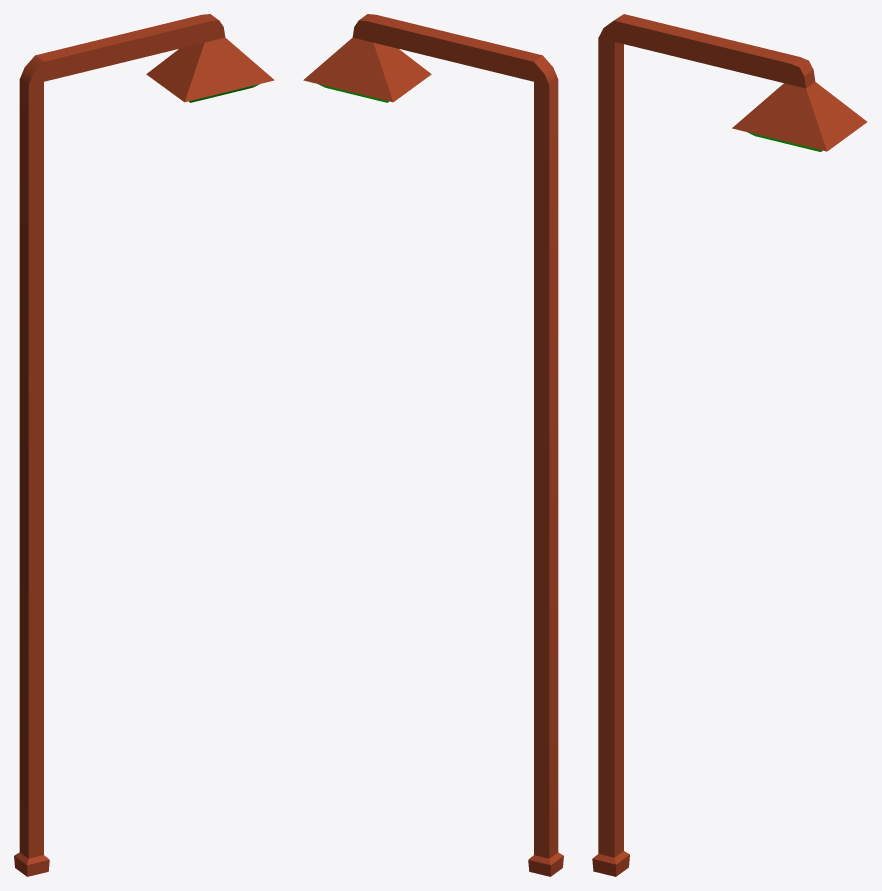
File: Lightpost.fbx
The picture shows the model from 3 angles, left to right: view 1: azimuth 30°, elevation 25°; view 2: azimuth 150°, elevation 25°; view 3: azimuth 330°, elevation 25°; orthographic projection. The views are drawn at different scales.
Parts seen in each view (by area): view 1: Box001; view 2: Box001; view 3: Box001.
Part boxes in pixels (left/top/right/bottom): Box001: left=14, top=14, right=274, bottom=876; Box001: left=303, top=14, right=563, bottom=876; Box001: left=592, top=14, right=866, bottom=876.
Bounding box in the file's own units: 60.41 × 17.09 × 199.
